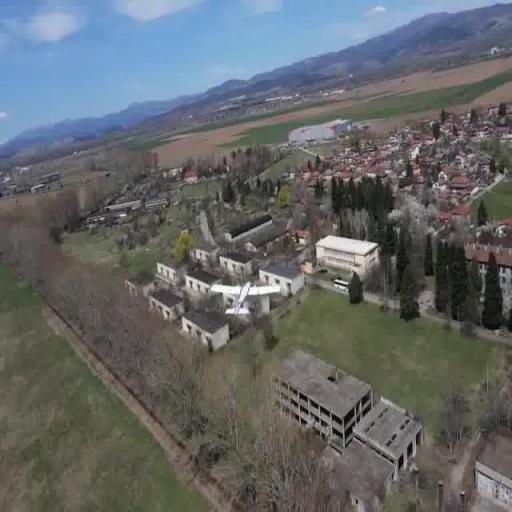uav: (210, 277, 282, 325)
